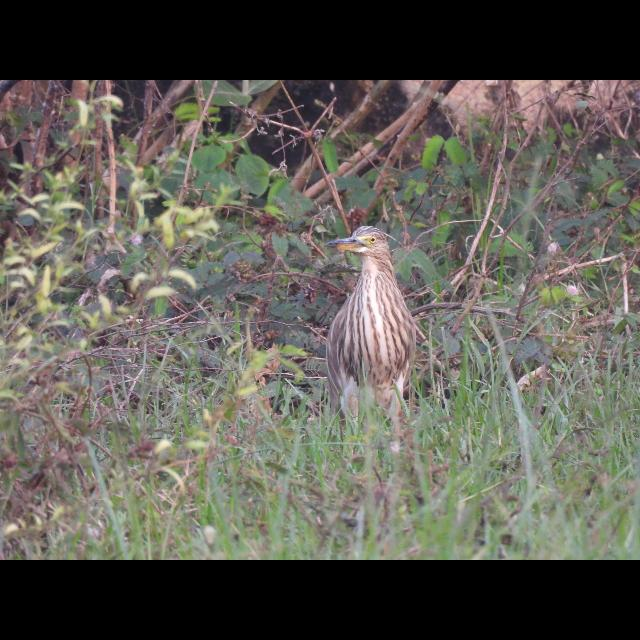heron: (323, 224, 417, 424)
